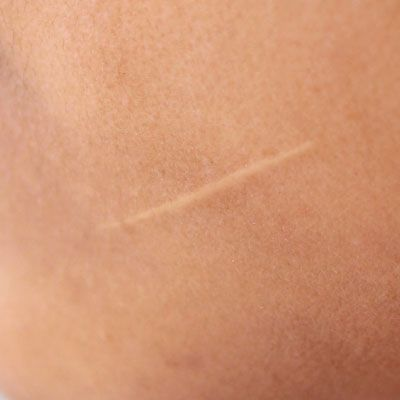scar: (95, 139, 315, 236)
